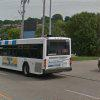Bus: (3, 34, 79, 79)
